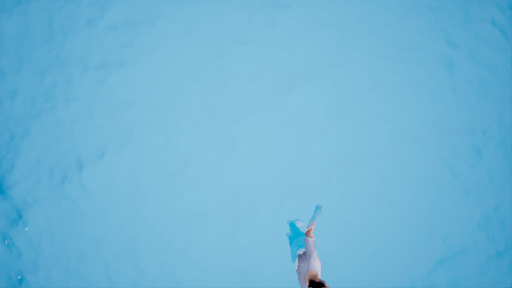person: (279, 206, 340, 288)
